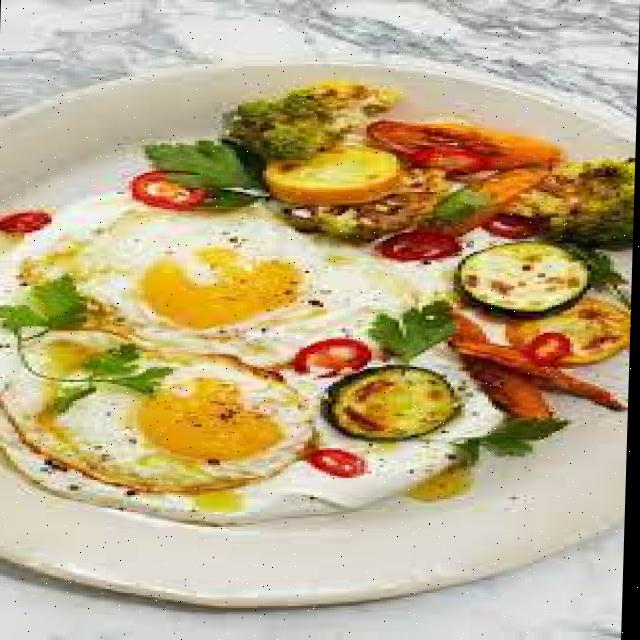Egg: (25, 208, 421, 351), (2, 330, 315, 492)
